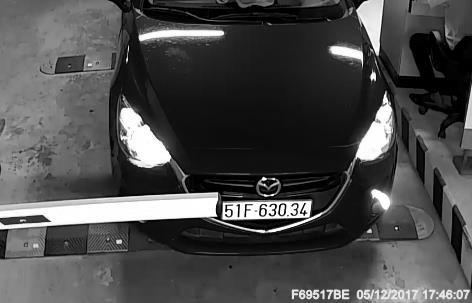License-plate: (220, 194, 318, 224)
